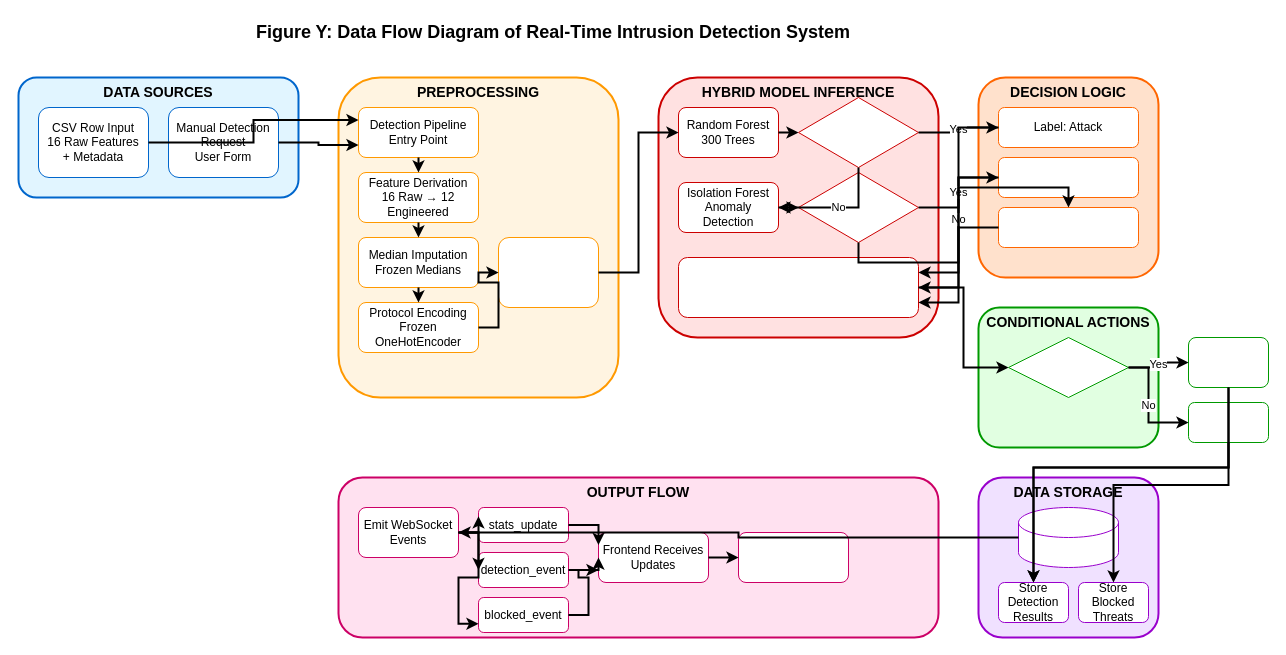
Some shapes in this 1286 by 655 pixel diagram are drawn without their labels. Each missing label, with the centre of its shape:
Feature Scaling Frozen StandardScaler Result: 142 Features: the point at 548,272
IF Score < 0.05?: the point at 858,207
Is Attack?: the point at 1068,367
Label: Normal: the point at 1068,227
Label: Suspicious: the point at 1068,177
Log Only: the point at 1228,422
Output Layer Confidence, Risk, Severity Computation: the point at 798,287
RF Probability ≥ 0.40?: the point at 858,132
SQLite Database: the point at 1068,537
Trigger Auto-Blocking: the point at 1228,362
Update KPIs, Charts, Logs: the point at 793,557
